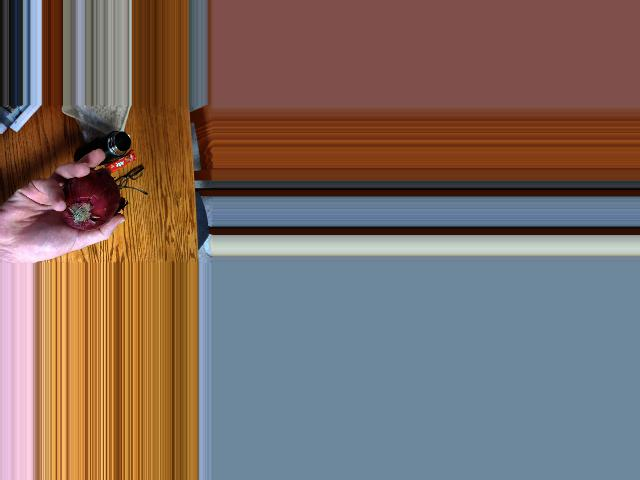onion: (54, 178, 118, 233)
